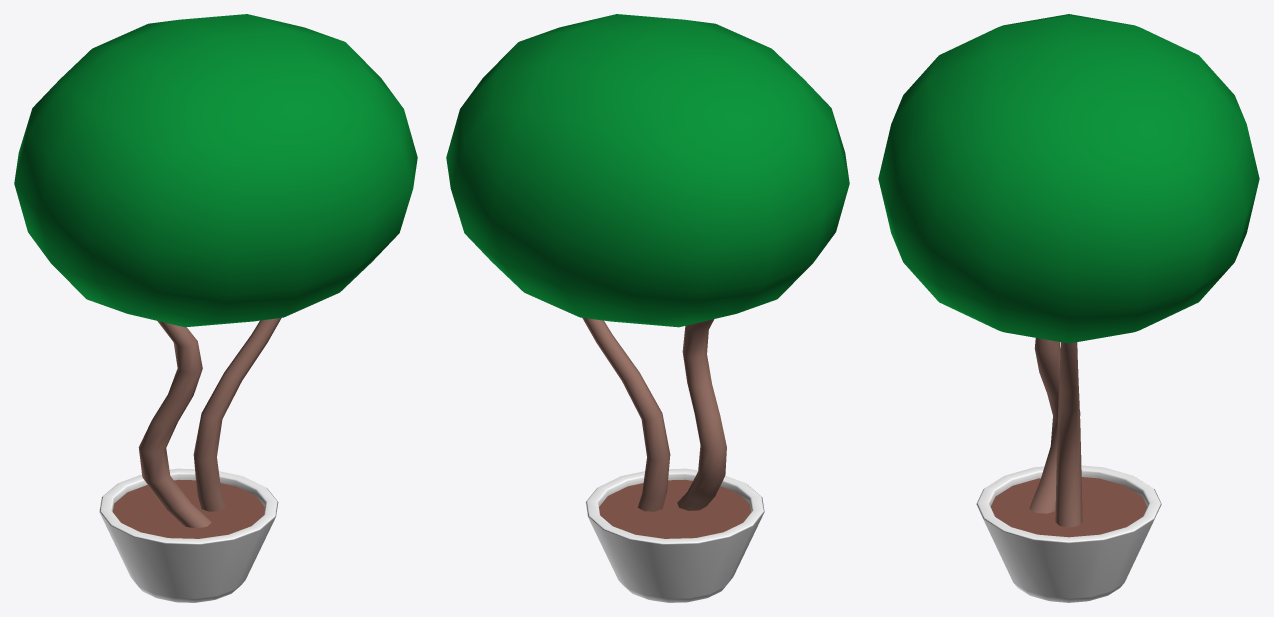
The model's file is Town_1_Plant_5.glb.
The picture shows the model from 3 angles, left to right: view 1: azimuth 30°, elevation 25°; view 2: azimuth 150°, elevation 25°; view 3: azimuth 270°, elevation 25°; orthographic projection. The views are drawn at different scales.
Visible parts, largest first — view 1: Town_1_Plant_5; view 2: Town_1_Plant_5; view 3: Town_1_Plant_5.
Part boxes in pixels (box(x1,y1,x2,y2)): Town_1_Plant_5: box(14, 14, 417, 602); Town_1_Plant_5: box(446, 14, 849, 602); Town_1_Plant_5: box(878, 14, 1259, 602).
Size of the model in its own units: 1.96 by 2.88 by 1.79.
Materials: 1 (1 with a texture image).
